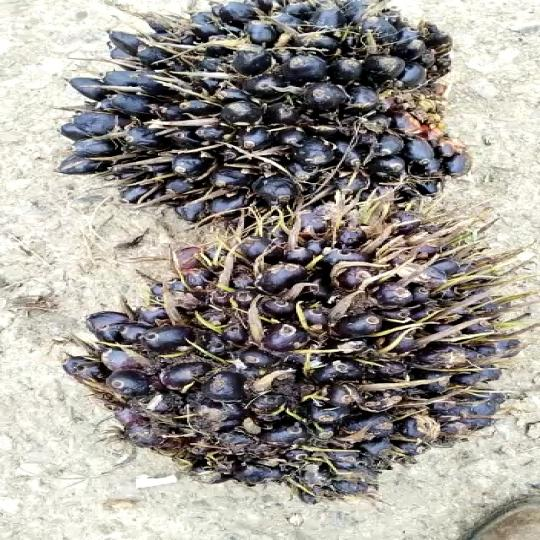mentah: (85, 219, 510, 509), (55, 0, 497, 233)
